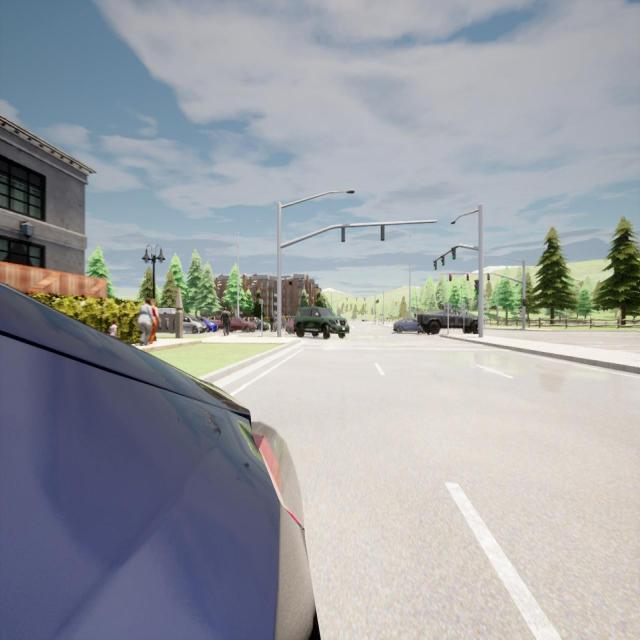Pedestrian: (138, 295, 153, 348), (150, 296, 160, 346), (219, 305, 232, 339), (108, 318, 120, 339), (269, 314, 275, 334)
Traffic_Signs: (445, 303, 451, 311)
Vehicle: (0, 283, 314, 637), (294, 307, 348, 338), (418, 308, 479, 335), (393, 317, 425, 334), (230, 315, 256, 332), (183, 314, 201, 334), (243, 317, 269, 330), (198, 315, 217, 331), (286, 317, 298, 334), (208, 315, 225, 327)
traffic_light: (474, 280, 479, 295), (451, 247, 456, 260), (341, 227, 345, 242), (440, 255, 445, 266), (381, 225, 384, 240), (523, 298, 527, 308), (434, 258, 437, 270), (449, 273, 452, 281), (487, 273, 490, 281), (467, 273, 469, 282), (364, 297, 366, 301), (347, 298, 348, 301), (356, 298, 357, 301), (377, 300, 378, 303), (376, 301, 376, 303), (378, 299, 378, 303)
